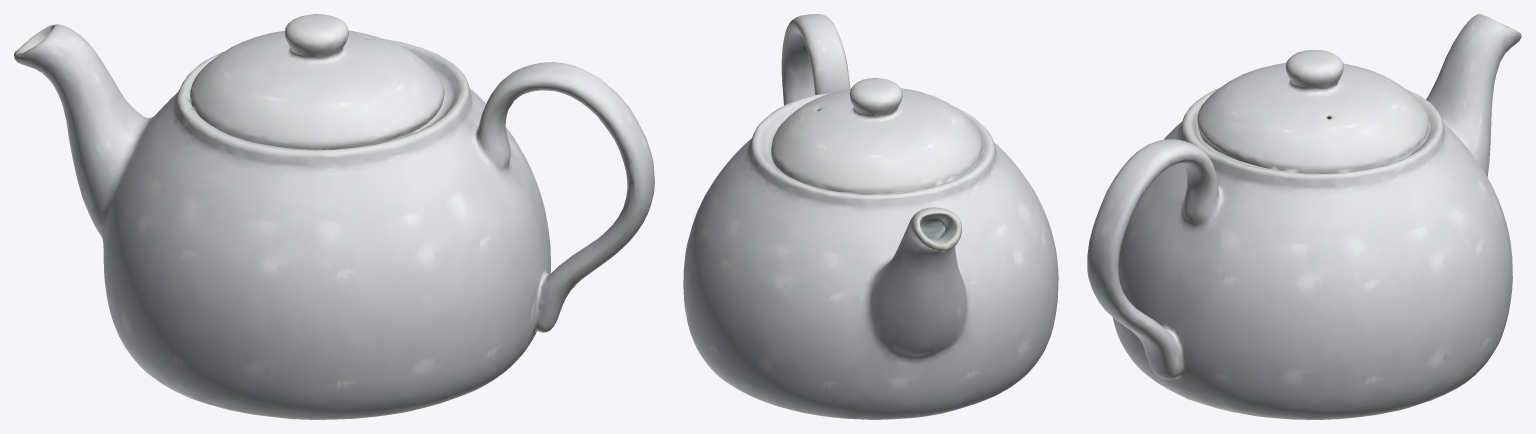
The model's file is Threshold_Porcelain_Teapot_White.glb.
3 renders of one model, left to right at view 1: azimuth 30°, elevation 25°; view 2: azimuth 150°, elevation 25°; view 3: azimuth 270°, elevation 25°, orthographic. The views are drawn at different scales.
Parts seen in each view (by area): view 1: model.obj; view 2: model.obj; view 3: model.obj.
Boxes of the visible parts, x1=… form: model.obj: x1=14, y1=14, x2=654, y2=419; model.obj: x1=683, y1=14, x2=1058, y2=419; model.obj: x1=1087, y1=14, x2=1521, y2=419.
Size of the model in its own units: 1 by 0.7303 by 0.987.
1 material, 1 textured.
